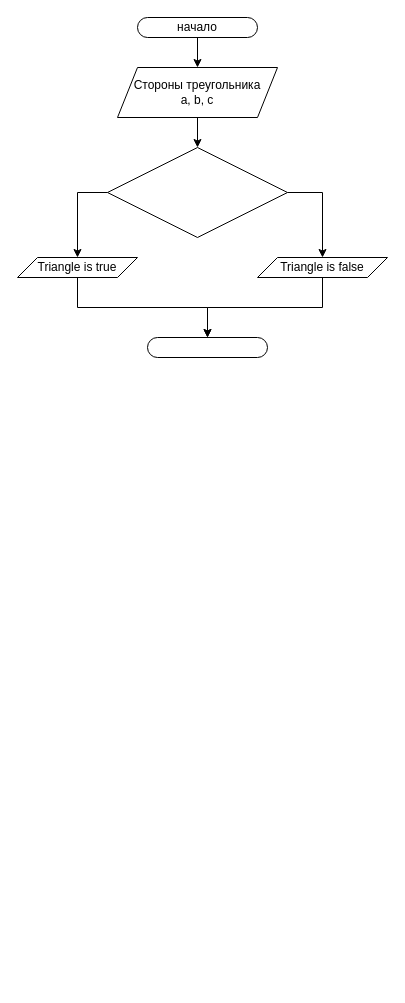
This 405x1003 diagram has some shape labels left out. The centre of each missing label's shape, as x and y in pixels:
"a + b <= c или a + c <= b или b + c <= a" belongs at [197,192].
"конец" belongs at [207,347].
